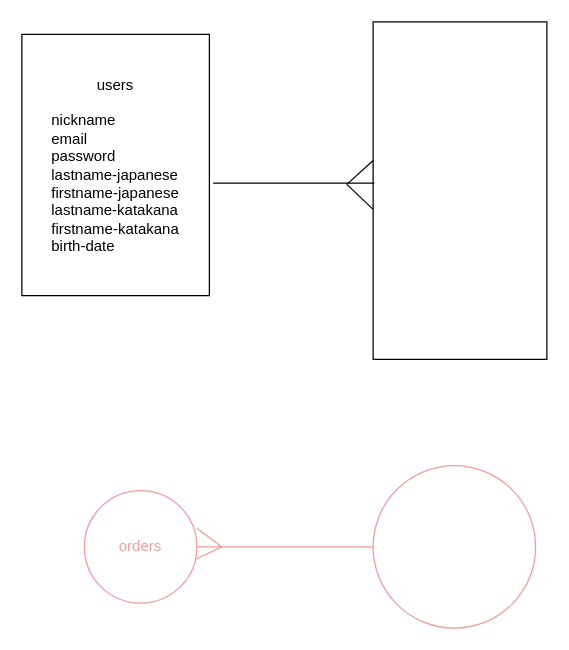
Some shapes in this 569 by 650 pixel diagram are drawn without their labels. The shapes that lost their labels are listed below. From the top down, each one's box as (x1, y1, x2, y2) in pixels, then its label:
(372, 21, 547, 359): items postal-code prefectures municipalites address building-name phone-number
(372, 464, 536, 628): 配送先住所
